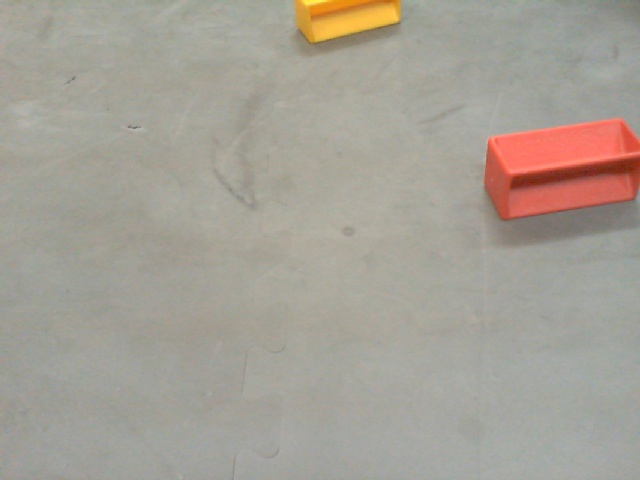RedSample: (484, 118, 640, 216)
YellowSample: (294, 1, 402, 43)
